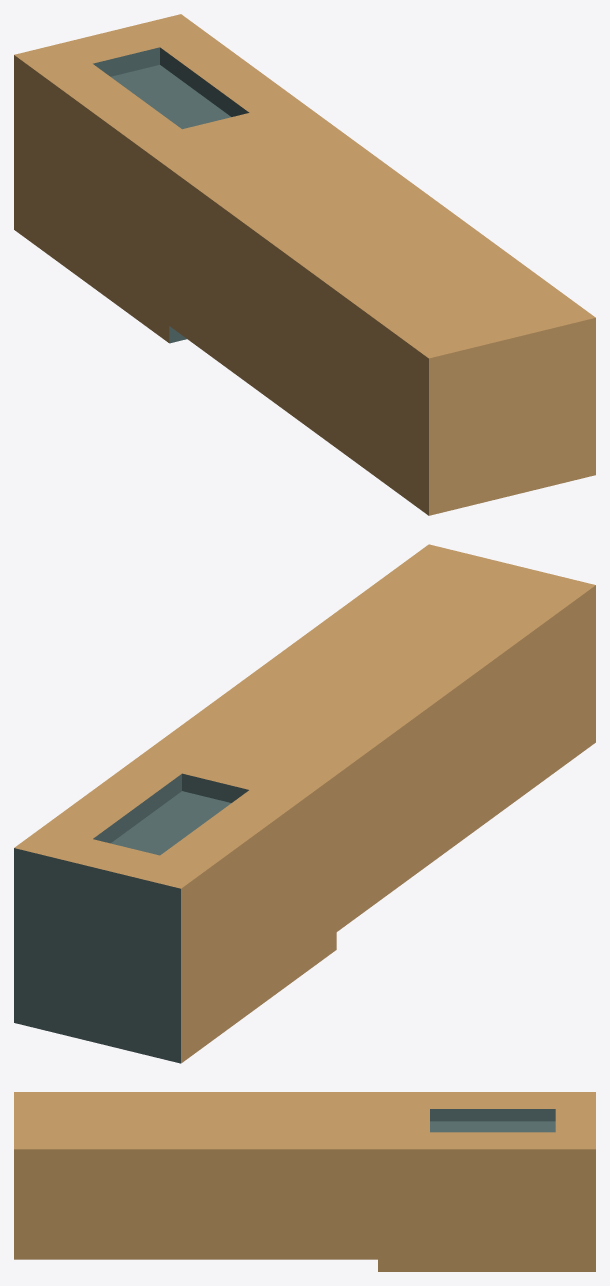
The model's file is speaker-floor.obj.
3 views of the same model, one above another, from view 1: azimuth 30°, elevation 25°; view 2: azimuth 150°, elevation 25°; view 3: azimuth 270°, elevation 25° (orthographic). The views are drawn at different scales.
Visible parts, largest first — view 1: speaker-floor; view 2: speaker-floor; view 3: speaker-floor.
Boxes of the visible parts, box(x1,y1,x2,y2) form: speaker-floor: box(14, 14, 595, 515); speaker-floor: box(14, 544, 595, 1063); speaker-floor: box(14, 1092, 595, 1271).
Size of the model in its own units: 8.84 by 8.84 by 38.
